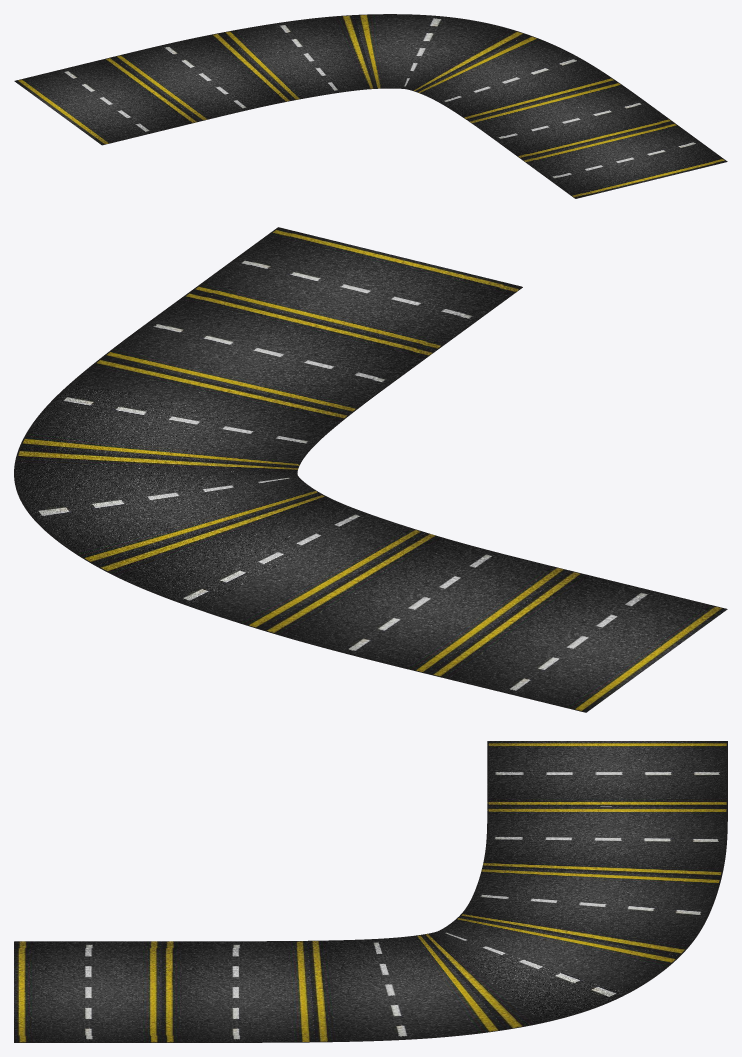
The model's file is Cesta Kriva najnovije.fbx.
3 renders of one model, top to bottom at view 1: azimuth 30°, elevation 25°; view 2: azimuth 150°, elevation 25°; view 3: azimuth 270°, elevation 25°, orthographic. The views are drawn at different scales.
Parts seen in each view (by area): view 1: Cesta kriva; view 2: Cesta kriva; view 3: Cesta kriva.
Boxes of the visible parts, x1,y1,x2,y2 form: Cesta kriva: [14, 14, 727, 198]; Cesta kriva: [14, 227, 727, 712]; Cesta kriva: [14, 741, 727, 1042].
Bounding box in the file's own units: 200 × 0 × 200.
Materials: 1 (1 with a texture image).
